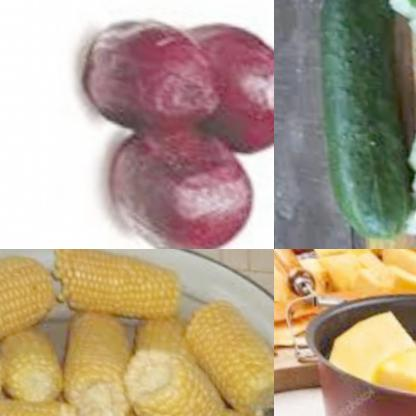beet: (74, 2, 223, 143), (105, 116, 253, 249), (175, 8, 274, 154)
corn: (182, 286, 274, 415), (48, 298, 134, 416), (47, 249, 180, 318), (118, 334, 218, 416), (0, 306, 63, 398), (0, 249, 55, 346), (0, 380, 100, 416)
cucumber: (304, 0, 416, 248), (375, 0, 416, 249)
pumpkin: (322, 301, 416, 406), (317, 249, 416, 325)
